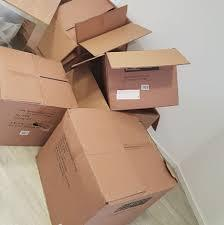box: (35, 108, 177, 225), (18, 0, 153, 72), (0, 46, 79, 146), (103, 47, 190, 111)
